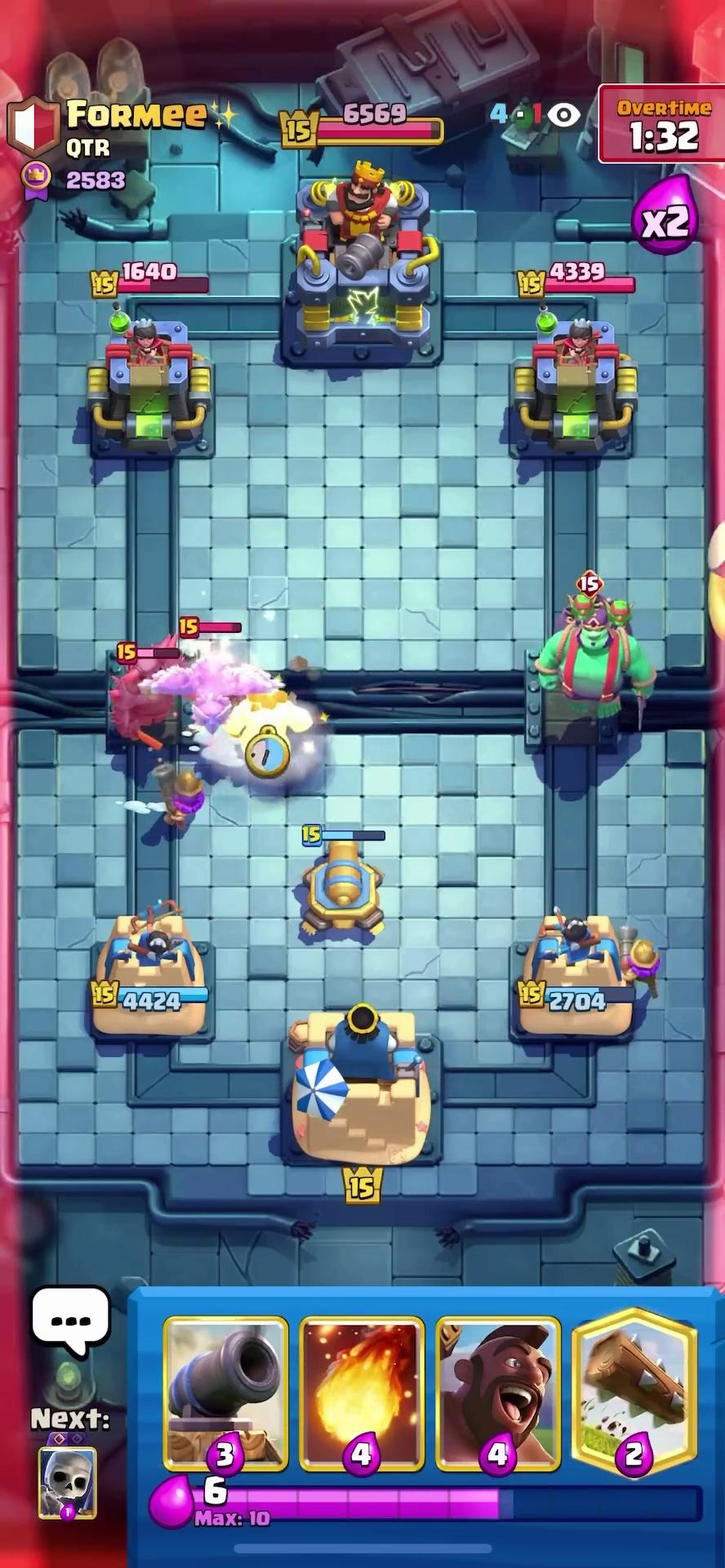cannon: (280, 831, 406, 941)
ice_golem: (229, 672, 325, 768)
musketeer: (141, 749, 225, 845), (614, 917, 659, 990)
